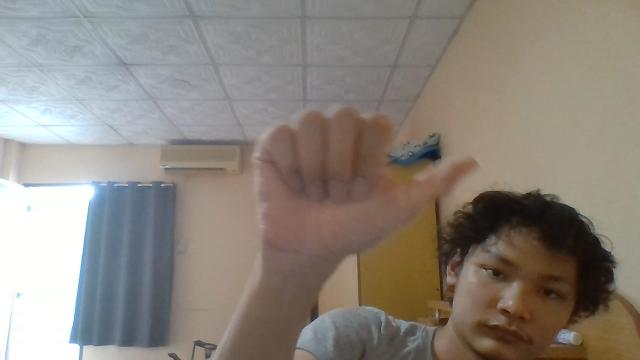left: (252, 106, 478, 268)
